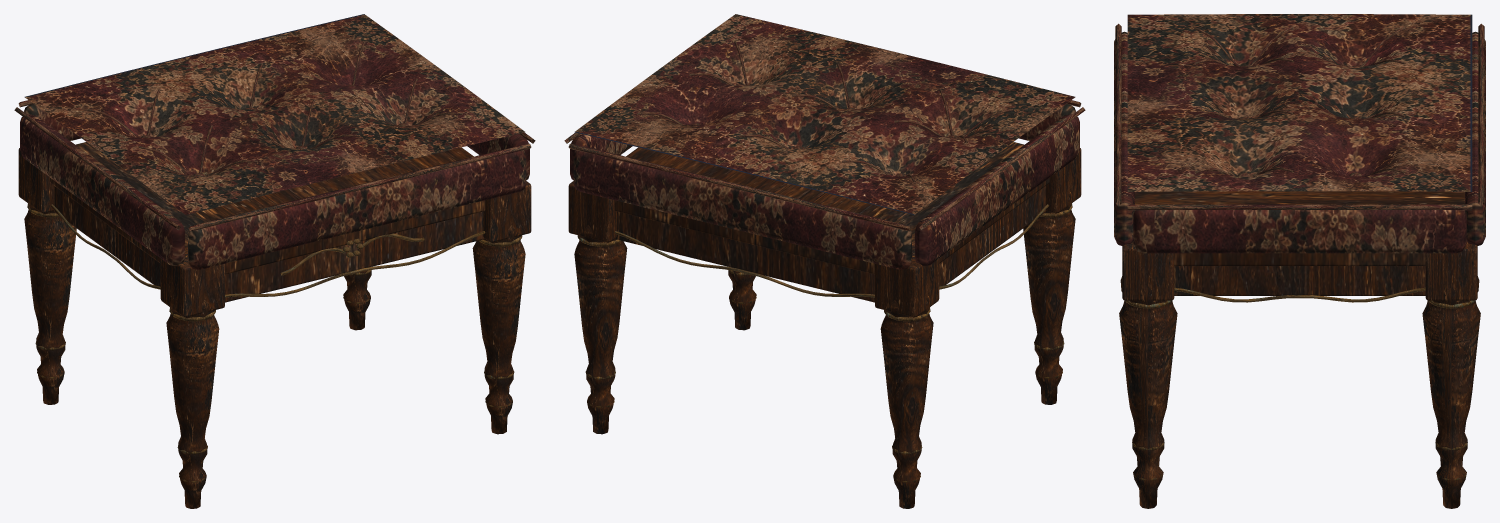
File: vanity_stool.glb
The picture shows the model from 3 angles, left to right: view 1: azimuth 30°, elevation 25°; view 2: azimuth 150°, elevation 25°; view 3: azimuth 270°, elevation 25°; orthographic projection. The views are drawn at different scales.
Parts seen in each view (by area): view 1: Stool_TuftedCushion, Stool_CushionSide_Front, Stool_SeatPlatform, Stool_CushionSide_Left, Stool_Apron_Front, StoolLeg_FL, StoolLeg_FR, StoolLeg_BL, Stool_CarvedCorner_FL, Stool_Apron_Left, Stool_CarvedCorner_FR, Stool_UpholsteryPiping_Front (+5 smaller); view 2: Stool_TuftedCushion, Stool_CushionSide_Back, Stool_SeatPlatform, Stool_CushionSide_Left, Stool_Apron_Back, StoolLeg_BL, StoolLeg_BR, StoolLeg_FL, Stool_CarvedCorner_BL, Stool_Apron_Left, Stool_CarvedCorner_BR, Stool_UpholsteryPiping_Back (+5 smaller); view 3: Stool_TuftedCushion, Stool_CushionSide_Right, StoolLeg_BR, StoolLeg_FR, Stool_SeatPlatform, Stool_Apron_Right, Stool_CarvedCorner_BR, Stool_CarvedCorner_FR, Stool_CushionSide_Back, Stool_CushionSide_Front, Stool_UpholsteryPiping_Right, Stool_UpholsteryPiping_Back (+2 smaller).
Boxes of the visible parts, x1=… form: Stool_TuftedCushion: x1=24, y1=14, x2=525, y2=214; Stool_CushionSide_Front: x1=188, y1=147, x2=526, y2=269; Stool_SeatPlatform: x1=50, y1=142, x2=485, y2=274; Stool_CushionSide_Left: x1=20, y1=114, x2=184, y2=265; Stool_Apron_Front: x1=225, y1=211, x2=484, y2=302; StoolLeg_FL: x1=166, y1=296, x2=219, y2=508; StoolLeg_FR: x1=472, y1=225, x2=525, y2=434; StoolLeg_BL: x1=24, y1=192, x2=76, y2=404; Stool_CarvedCorner_FL: x1=160, y1=245, x2=224, y2=317; Stool_Apron_Left: x1=54, y1=186, x2=160, y2=286; Stool_CarvedCorner_FR: x1=483, y1=181, x2=531, y2=242; Stool_UpholsteryPiping_Front: x1=188, y1=143, x2=531, y2=231; Stool_TuftedCushion: x1=574, y1=14, x2=1075, y2=214; Stool_CushionSide_Back: x1=573, y1=147, x2=911, y2=269; Stool_SeatPlatform: x1=614, y1=142, x2=1049, y2=274; Stool_CushionSide_Left: x1=915, y1=114, x2=1079, y2=265; Stool_Apron_Back: x1=615, y1=211, x2=874, y2=302; StoolLeg_BL: x1=880, y1=296, x2=933, y2=508; StoolLeg_BR: x1=574, y1=225, x2=627, y2=434; StoolLeg_FL: x1=1023, y1=192, x2=1075, y2=404; Stool_CarvedCorner_BL: x1=875, y1=245, x2=939, y2=317; Stool_Apron_Left: x1=939, y1=186, x2=1045, y2=286; Stool_CarvedCorner_BR: x1=568, y1=181, x2=616, y2=242; Stool_UpholsteryPiping_Back: x1=568, y1=143, x2=911, y2=231; Stool_TuftedCushion: x1=1127, y1=14, x2=1472, y2=191; Stool_CushionSide_Right: x1=1133, y1=210, x2=1466, y2=253; StoolLeg_BR: x1=1422, y1=276, x2=1480, y2=508; StoolLeg_FR: x1=1119, y1=276, x2=1177, y2=508; Stool_SeatPlatform: x1=1135, y1=191, x2=1464, y2=265; Stool_Apron_Right: x1=1174, y1=266, x2=1425, y2=295; Stool_CarvedCorner_BR: x1=1425, y1=241, x2=1477, y2=300; Stool_CarvedCorner_FR: x1=1122, y1=241, x2=1174, y2=300; Stool_CushionSide_Back: x1=1465, y1=31, x2=1485, y2=245; Stool_CushionSide_Front: x1=1114, y1=31, x2=1134, y2=245; Stool_UpholsteryPiping_Right: x1=1127, y1=204, x2=1472, y2=210; Stool_UpholsteryPiping_Back: x1=1478, y1=23, x2=1484, y2=206.
Size of the model in its own units: 0.6 by 0.4921 by 0.5.
Materials: 3 (3 with a texture image).
